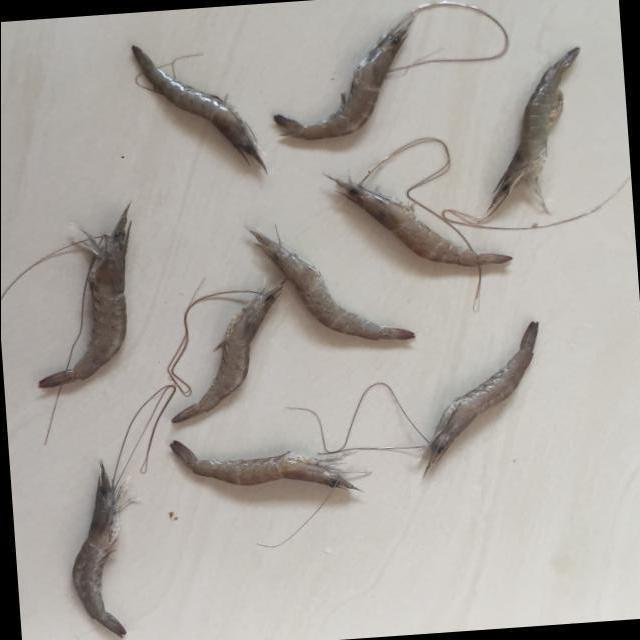shrimp: (249, 229, 414, 340), (275, 12, 416, 139), (425, 321, 539, 475), (131, 45, 266, 173), (38, 204, 130, 388), (483, 46, 581, 218), (328, 176, 512, 266), (171, 278, 285, 423), (72, 462, 125, 639), (169, 441, 359, 490)
